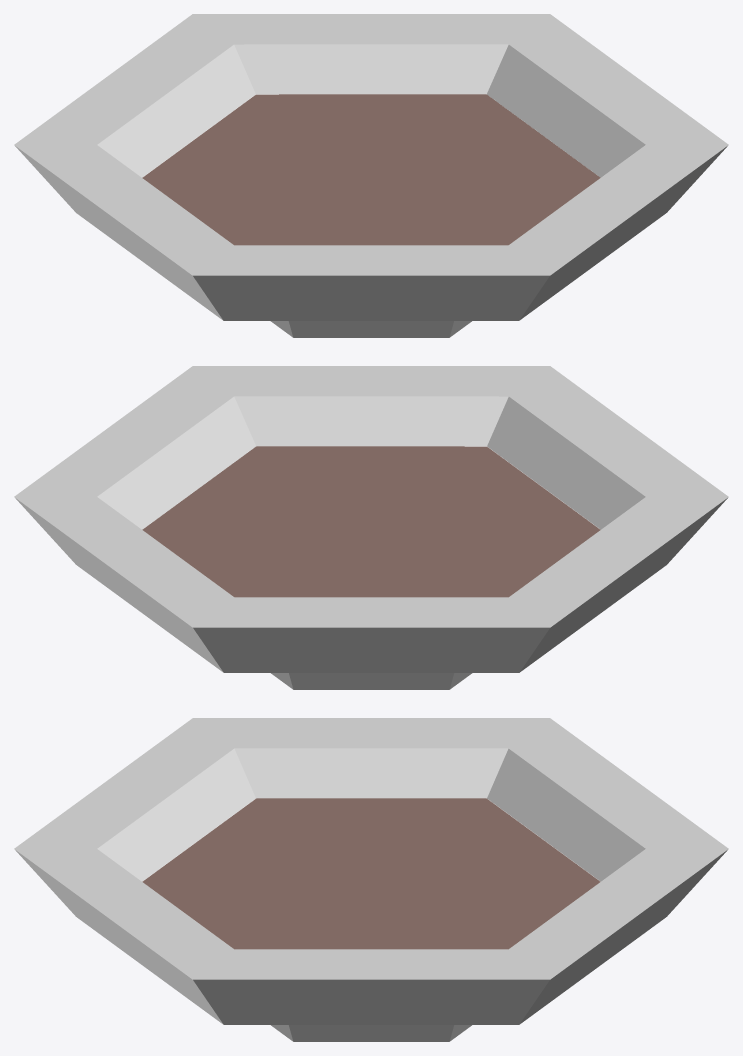
Rendered from soy.glb.
3 views of the same model, one above another, from view 1: azimuth 30°, elevation 25°; view 2: azimuth 150°, elevation 25°; view 3: azimuth 270°, elevation 25° (orthographic).
Parts seen in each view (by area): view 1: soy; view 2: soy; view 3: soy.
Part boxes in pixels (x1=…): soy: x1=14, y1=14, x2=728, y2=337; soy: x1=14, y1=366, x2=728, y2=689; soy: x1=14, y1=718, x2=728, y2=1041.
Size of the model in its own units: 0.1653 by 0.04 by 0.1909.
